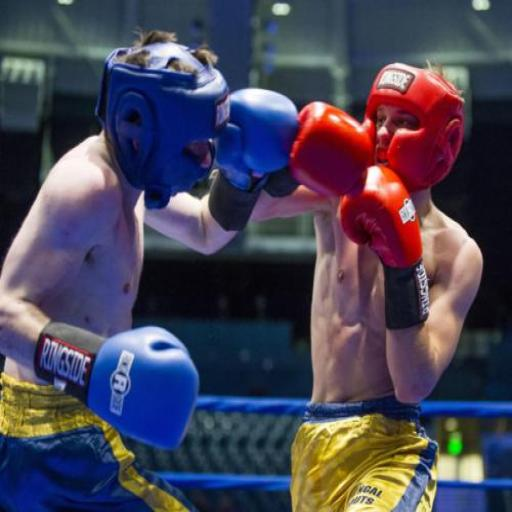boxing: (240, 16, 512, 512)
